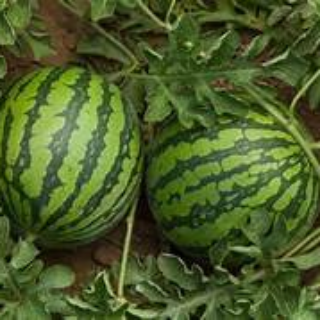dua_hau: (146, 91, 319, 265), (1, 64, 144, 251)
